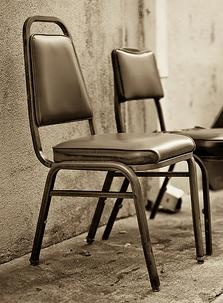obstacle: (23, 16, 204, 290)
